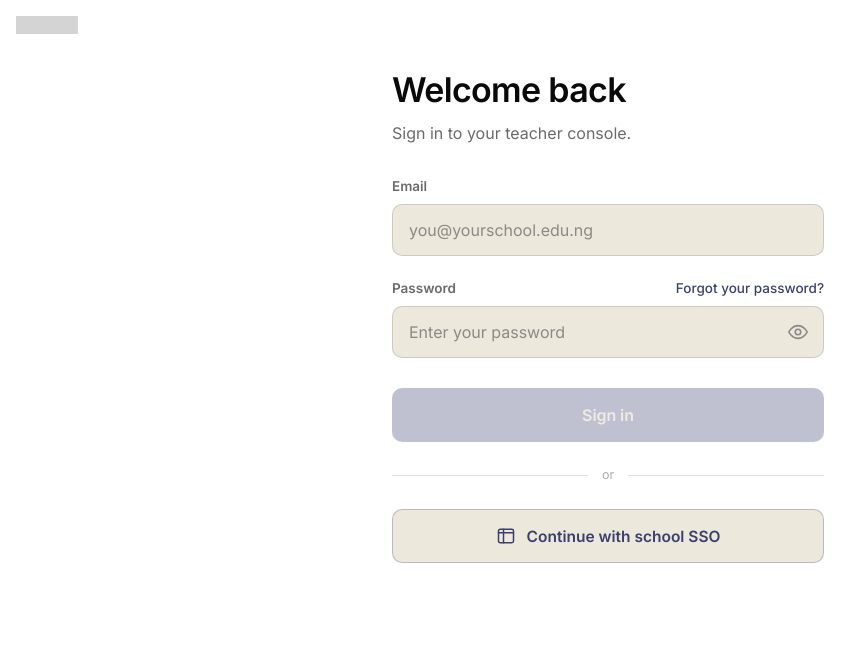
Test: which field is at fault (T207) › does not mark it when Nevo could not be reached
Type "ada@school.ng" into the field labelled "Email".
click(608, 230); type("ada@school.ng")  # box [392, 204, 824, 256]
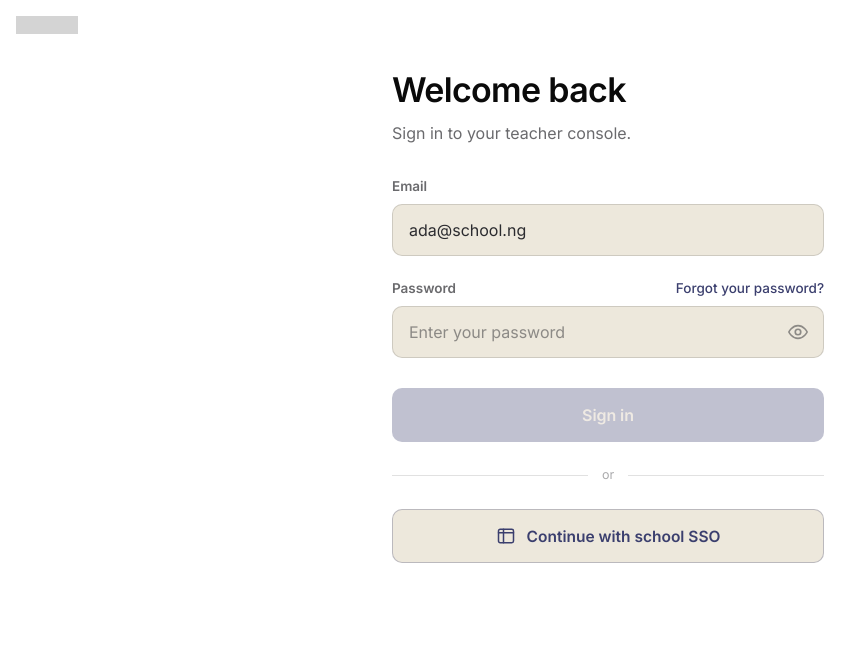
Type "lessons42" into the password field labelled "Password".
click(594, 332); type("lessons42")  # box [409, 307, 779, 357]
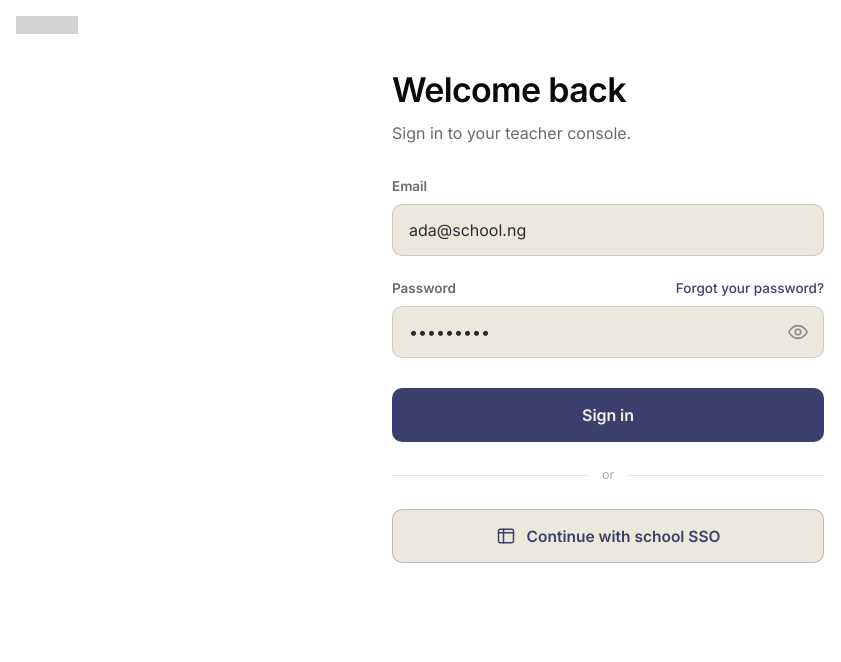
Click the button "Sign in".
click(608, 415)  # box [392, 388, 824, 442]
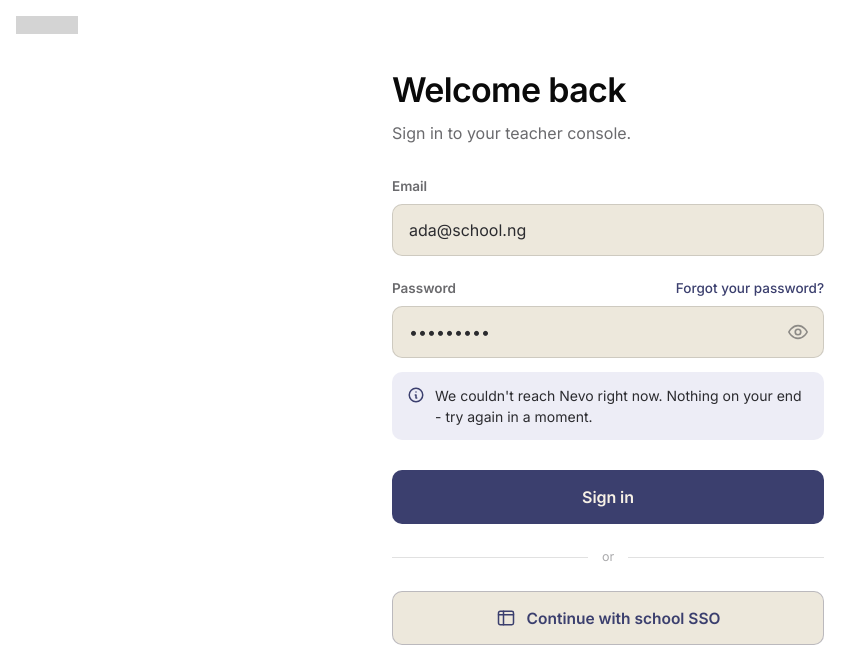
Expected: the text "couldn.t reach Nevo" is shown, [435, 387, 802, 425]
